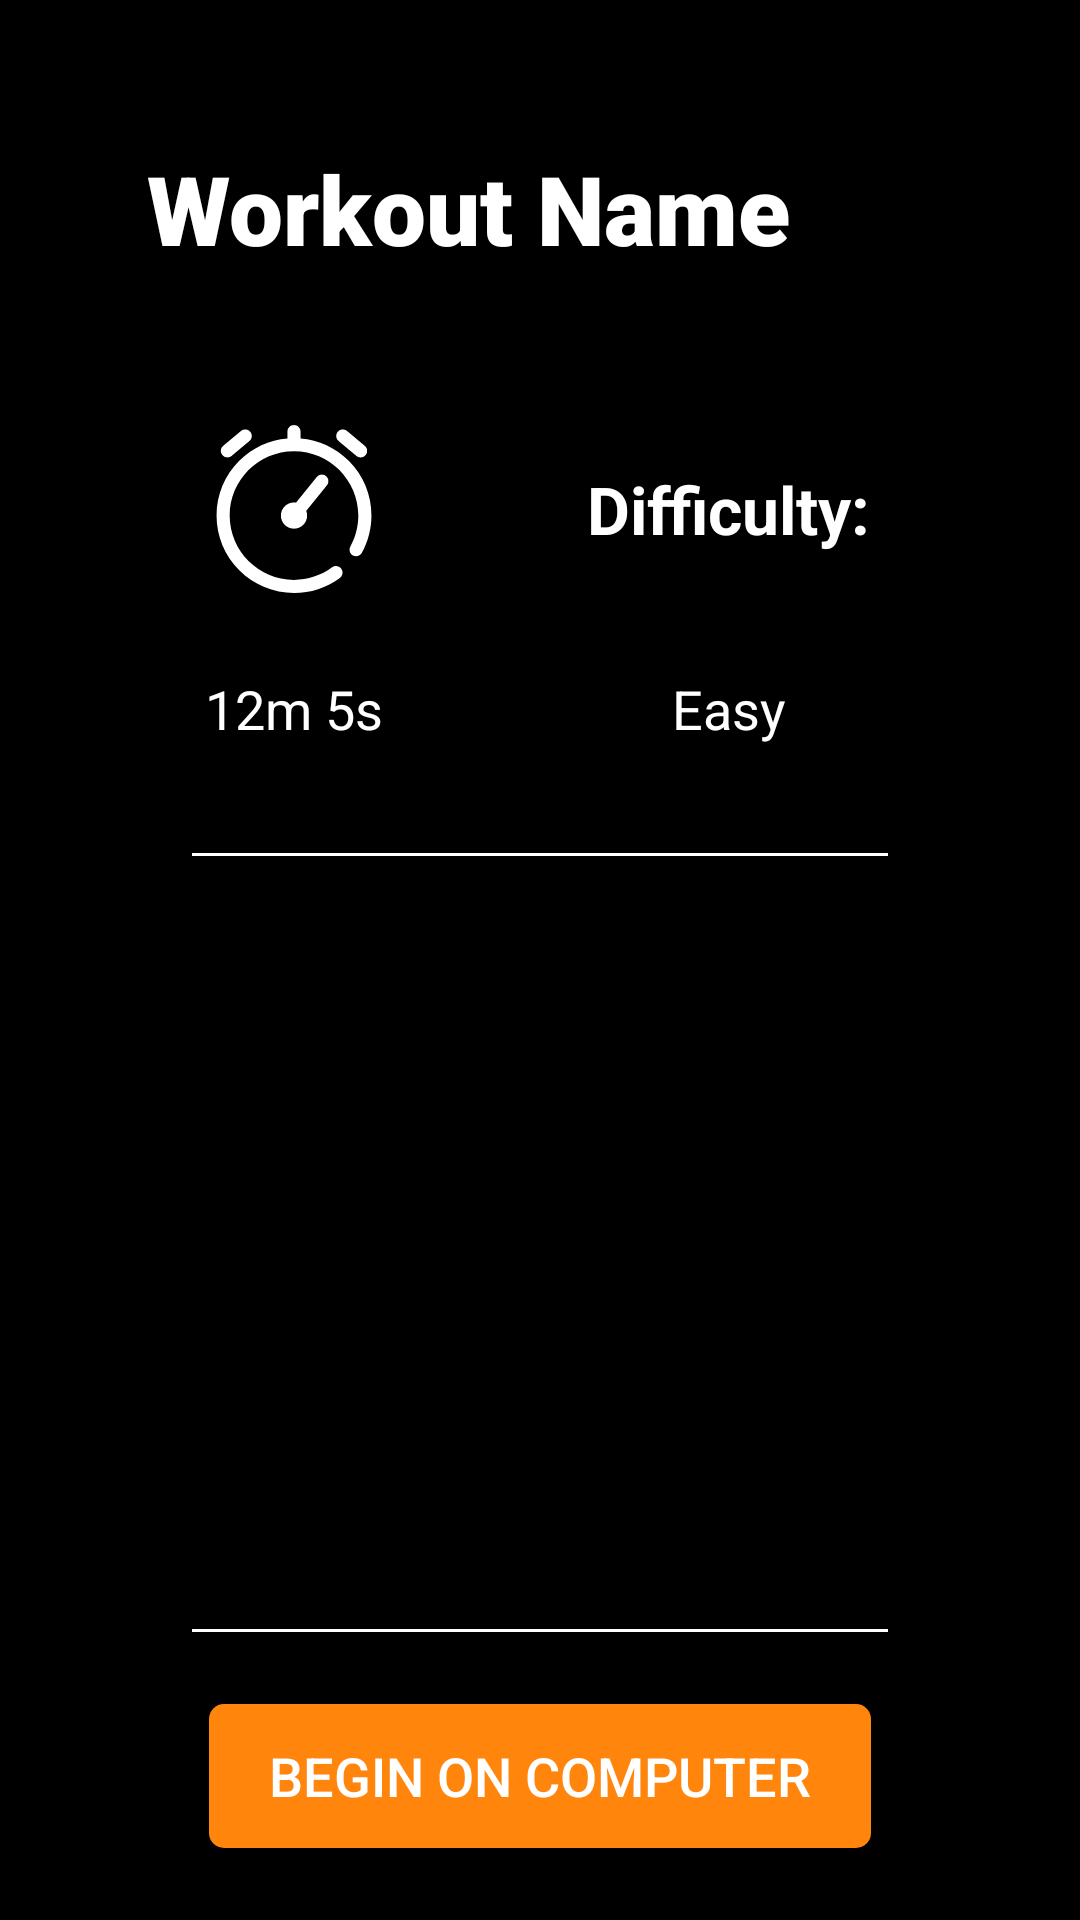

Point at icon controls on the screen. Image size 1080px x 1920px, points as (x,y).
stopwatch: (294,509)
